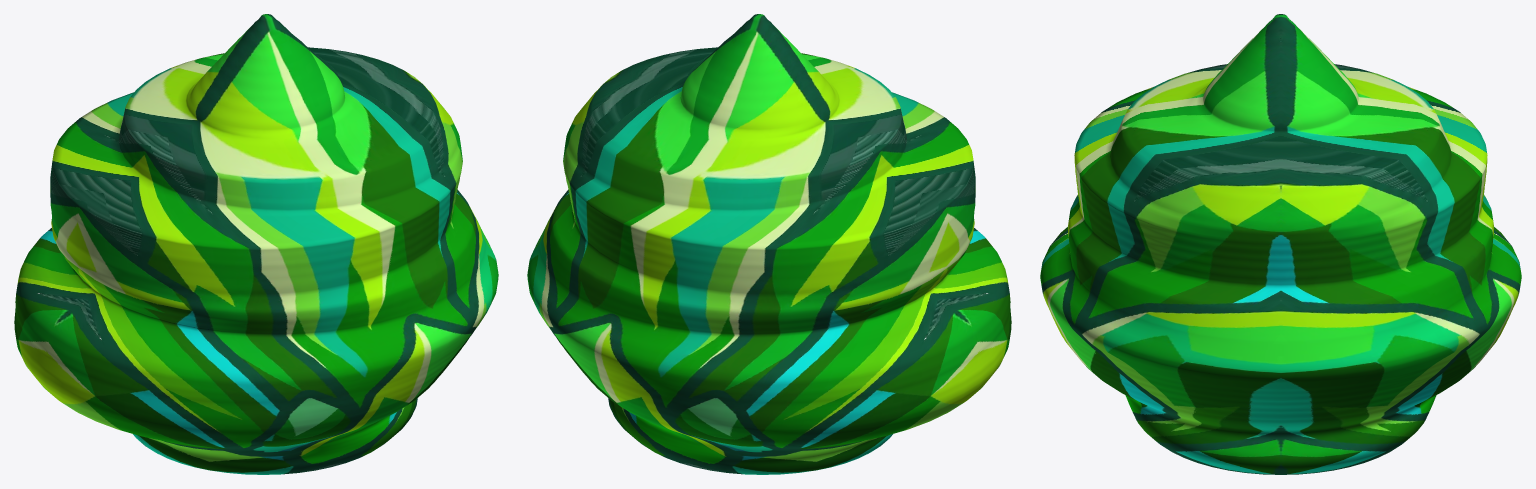
Rendered from green_crystals.glb.
The picture shows the model from 3 angles, left to right: view 1: azimuth 30°, elevation 25°; view 2: azimuth 150°, elevation 25°; view 3: azimuth 270°, elevation 25°; orthographic projection.
Visible parts, largest first — view 1: green_crystals; view 2: green_crystals; view 3: green_crystals.
Part boxes in pixels (bbox=[...]): green_crystals: bbox=[14, 14, 498, 474]; green_crystals: bbox=[527, 14, 1011, 474]; green_crystals: bbox=[1040, 14, 1521, 474].
Bounding box in the file's own units: 0.9981 × 0.9341 × 0.9812.
1 material, 1 textured.
